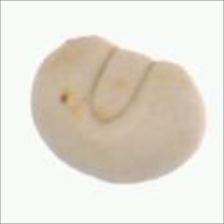L5: (85, 44, 158, 128), (63, 154, 121, 186)
L6: (27, 34, 212, 187)
